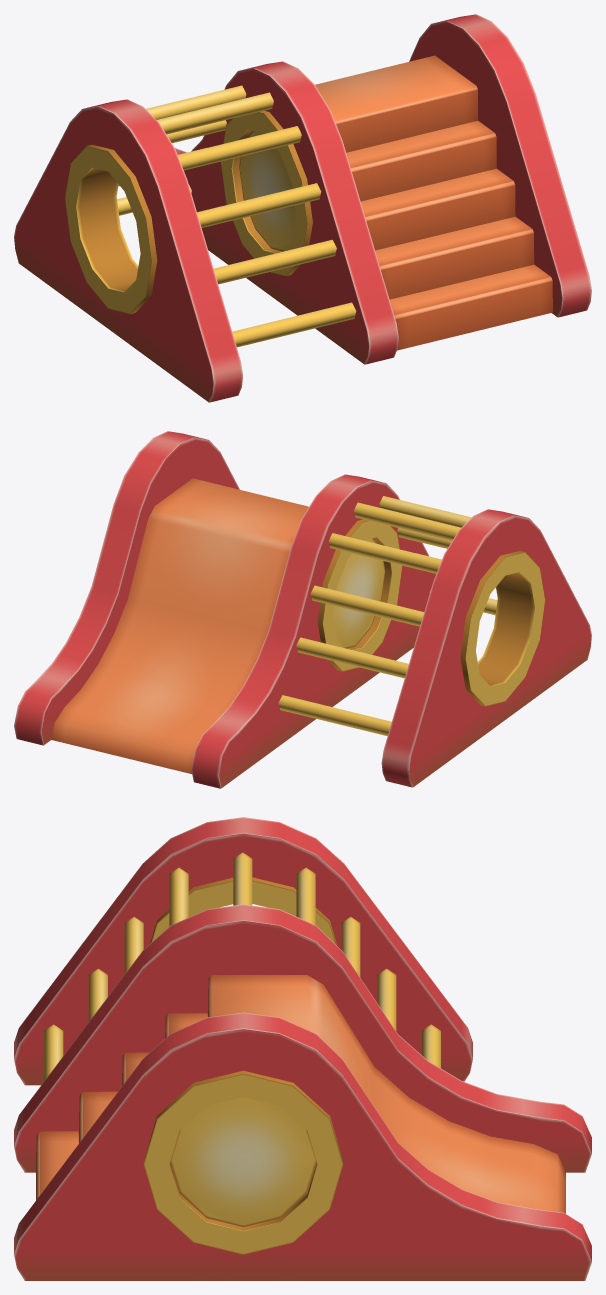
The model's file is bg_slide.FBX.
3 views of the same model, one above another, from view 1: azimuth 30°, elevation 25°; view 2: azimuth 150°, elevation 25°; view 3: azimuth 270°, elevation 25° (orthographic). The views are drawn at different scales.
Parts seen in each view (by area): view 1: bg_slide; view 2: bg_slide; view 3: bg_slide.
Part boxes in pixels (x1,y1,x2,y2): bg_slide: [14, 14, 591, 402]; bg_slide: [14, 431, 591, 788]; bg_slide: [14, 817, 591, 1280].
Bounding box in the file's own units: 32.3 × 17.39 × 36.16.
